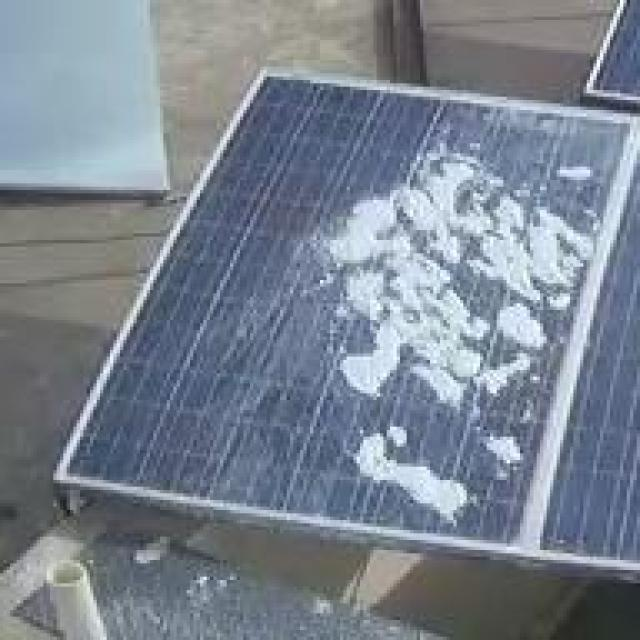Anomaly Solar Panel: (61, 72, 630, 551)
Snow: (265, 93, 616, 489), (340, 411, 482, 544)
